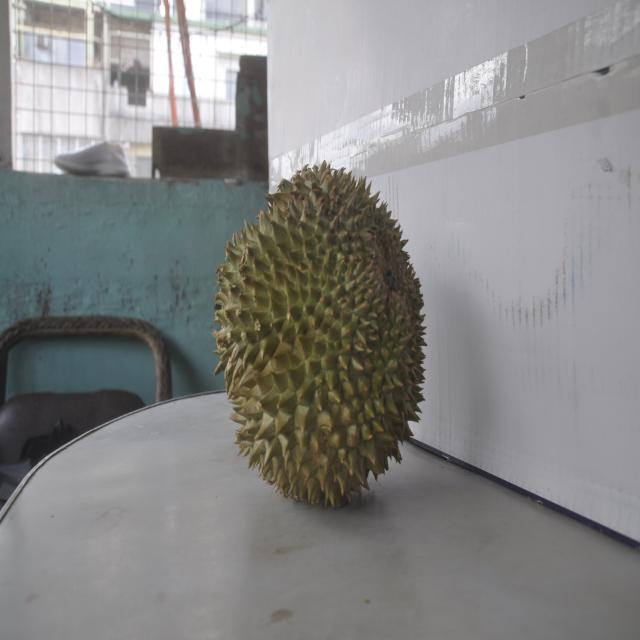mature: (214, 161, 422, 508)
